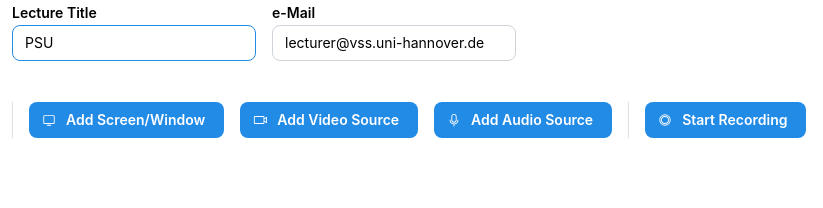
the menu behind rc-btn-addvideo stays shut if the user closed it before the refresh settled
Click the button with test id "rc-btn-addvideo". click: (329,120)
box: [240,102,418,138]
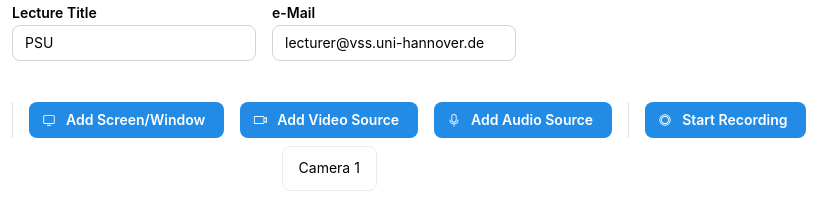
Now the menu is shown, box [282,146,377,191]
Press Escape
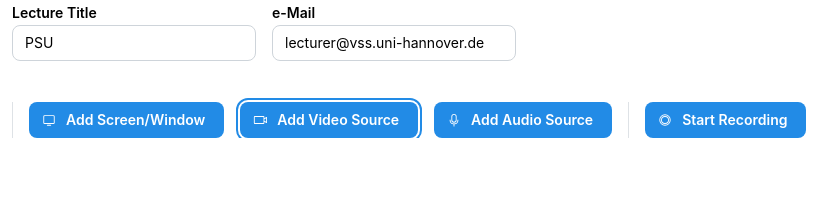
Now the menu is gone
